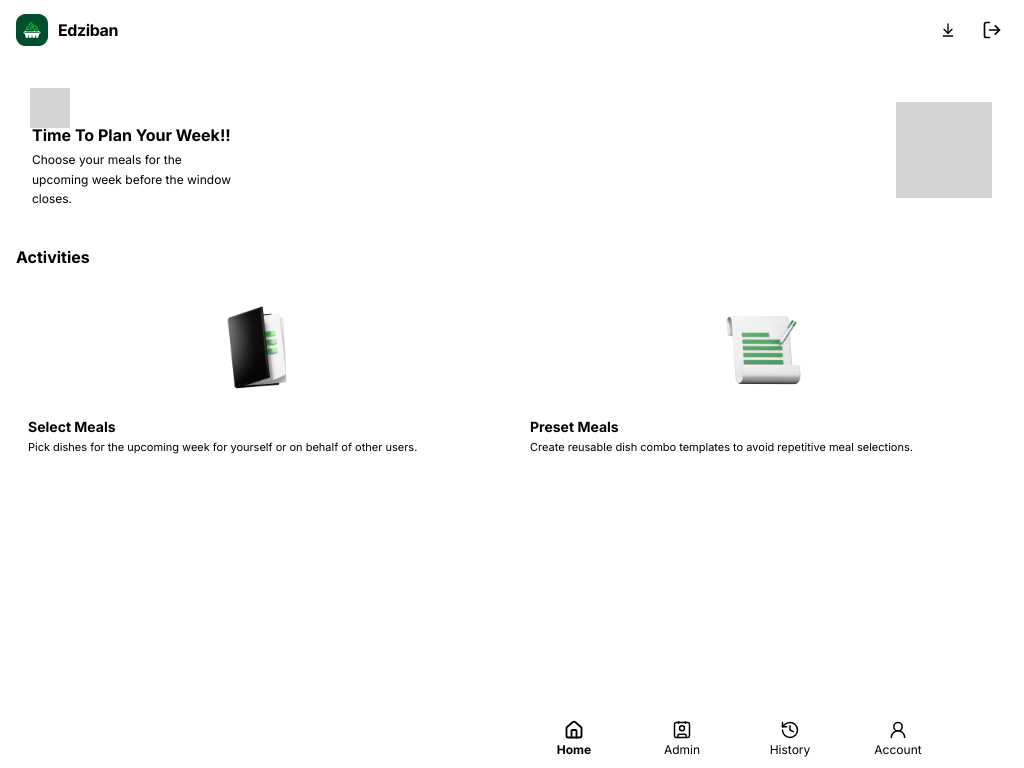
UserActivities Banner and Page Component › opens meal selection choice modal when clicking the banner in empty state
Check: the text "Time To Plan Your Week!!" is shown, box [32,125,231,145]
Click the text "Time To Plan Your Week!!". click: x=132, y=150
box: [32,92,232,208]
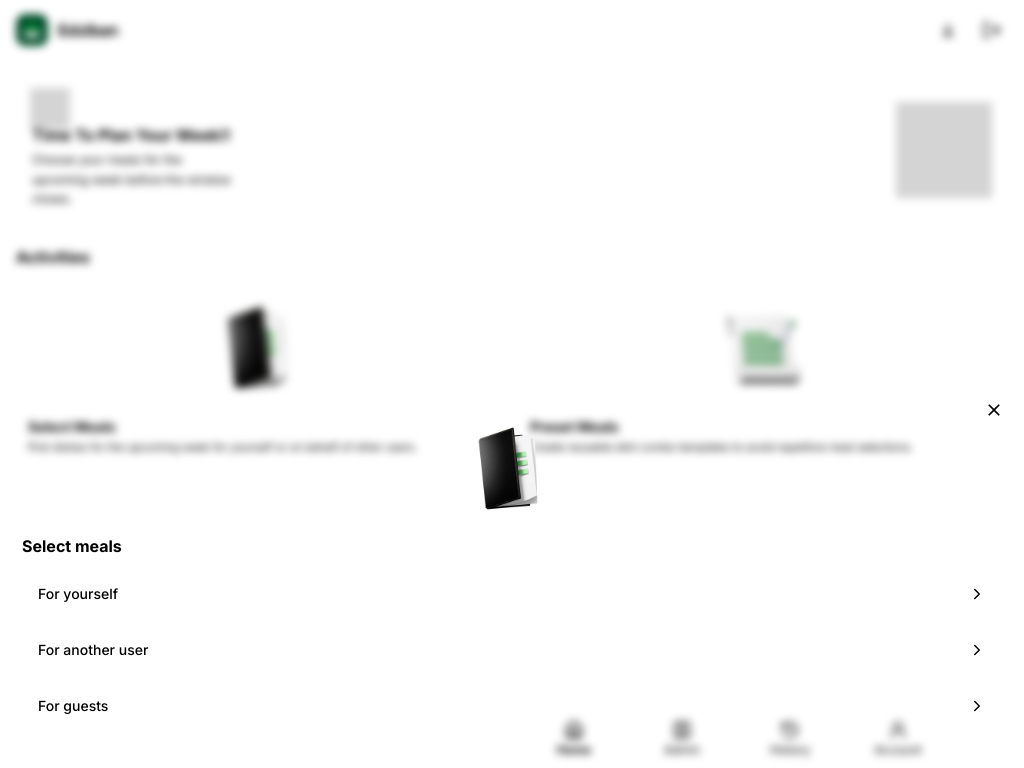
Check: the heading "Select meals" is shown, box [22,536,122,556]
Check: the text "For yourself" is shown, box [38,584,118,604]
Check: the text "For another user" is shown, box [38,640,148,660]
